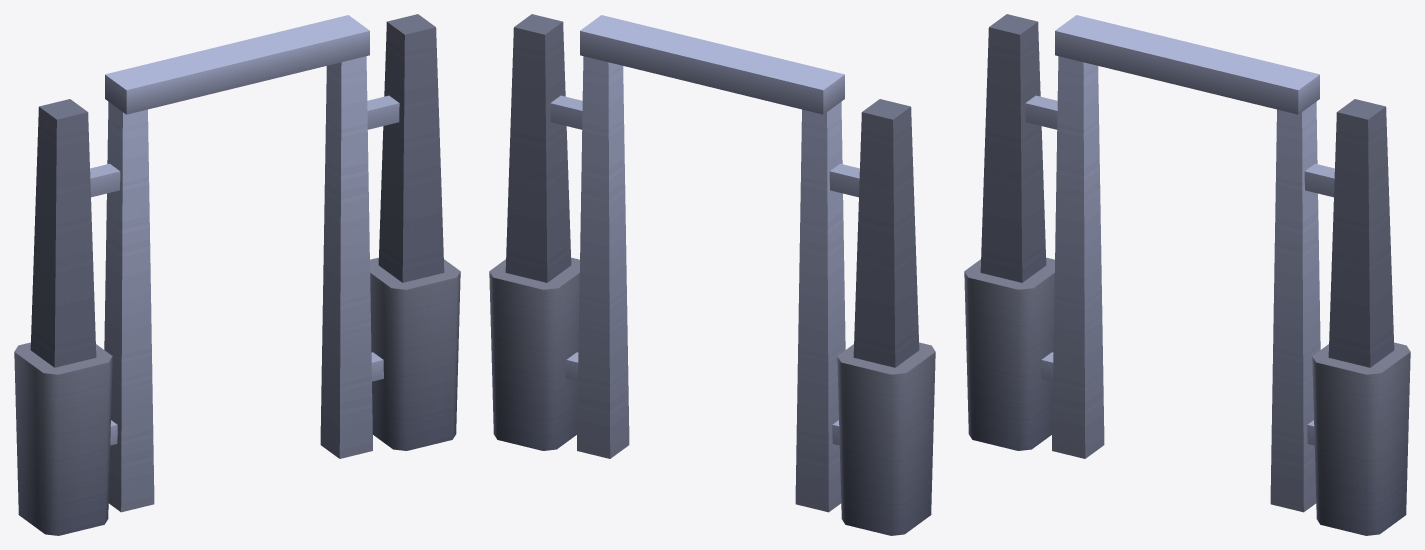
The model's file is structure-metal-doorway.glb.
The picture shows the model from 3 angles, left to right: view 1: azimuth 30°, elevation 25°; view 2: azimuth 150°, elevation 25°; view 3: azimuth 330°, elevation 25°; orthographic projection.
Visible parts, largest first — view 1: structure-metal-doorway, Group; view 2: structure-metal-doorway, Group; view 3: structure-metal-doorway, Group.
Part boxes in pixels (x1,y1,x2,y2): structure-metal-doorway: (14,14,460,535); Group: (105,15,369,114); structure-metal-doorway: (489,14,935,535); Group: (580,15,844,114); structure-metal-doorway: (964,14,1410,535); Group: (1055,15,1319,114).
Bounding box in the file's own units: 0.5354 × 0.5175 × 0.0889.
Materials: 1 (1 with a texture image).
